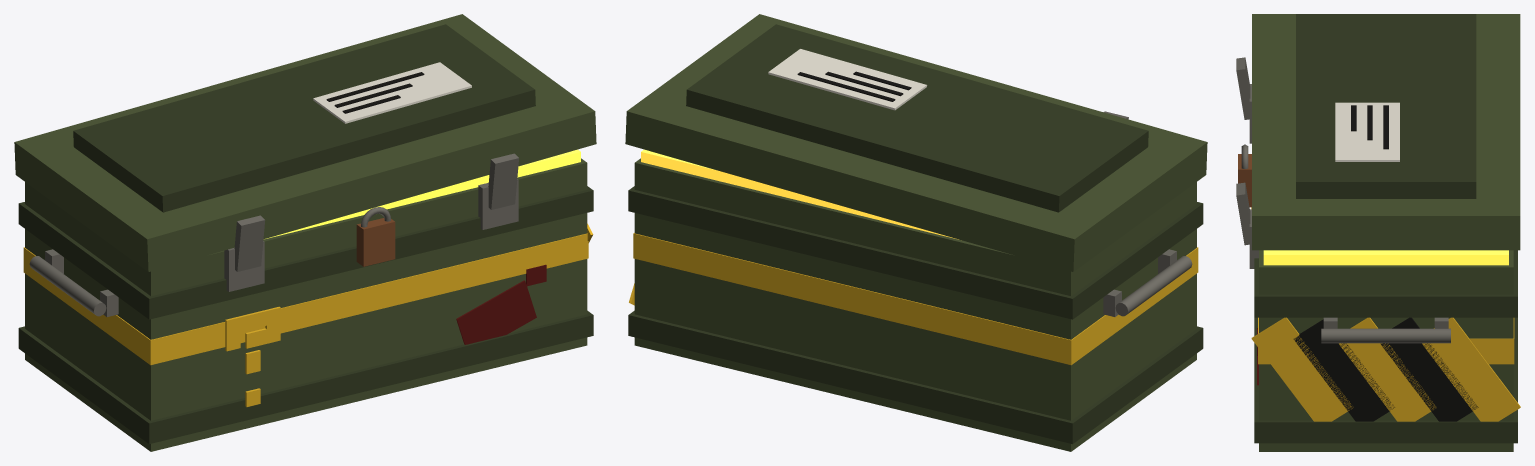
The model's file is caja-municion.glb.
3 renders of one model, left to right at view 1: azimuth 30°, elevation 25°; view 2: azimuth 150°, elevation 25°; view 3: azimuth 270°, elevation 25°, orthographic.
Parts seen in each view (by area): view 1: cuerpo, tapa_base, tapa_relieve, refuerzo_0, banda_amarilla, refuerzo_1, etiqueta, mancha_sangre, junta_brillo, candado_cuerpo, pestillo_palanca_1, pestillo_palanca_0 (+4 smaller); view 2: cuerpo, tapa_base, tapa_relieve, refuerzo_0, refuerzo_1, banda_amarilla, etiqueta, junta_brillo, asa_der; view 3: tapa_base, tapa_relieve, cuerpo, refuerzo_0, refuerzo_1, franja_peligro_4, franja_peligro_0, franja_peligro_3, junta_brillo, franja_peligro_1, franja_peligro_2, etiqueta (+5 smaller).
Boxes of the visible parts, <box> form: cuerpo: <box>25,158,587,451</box>; tapa_base: <box>14,14,596,271</box>; tapa_relieve: <box>73,24,535,212</box>; refuerzo_0: <box>18,310,593,444</box>; banda_amarilla: <box>23,233,588,365</box>; refuerzo_1: <box>18,186,593,319</box>; etiqueta: <box>313,62,471,123</box>; mancha_sangre: <box>456,280,536,344</box>; junta_brillo: <box>264,149,580,239</box>; candado_cuerpo: <box>356,218,395,266</box>; pestillo_palanca_1: <box>488,153,518,209</box>; pestillo_palanca_0: <box>234,215,265,271</box>; cuerpo: <box>634,158,1196,451</box>; tapa_base: <box>625,14,1207,271</box>; tapa_relieve: <box>686,24,1148,212</box>; refuerzo_0: <box>628,310,1203,444</box>; refuerzo_1: <box>628,186,1203,319</box>; banda_amarilla: <box>633,233,1198,365</box>; etiqueta: <box>768,49,927,110</box>; junta_brillo: <box>641,149,958,239</box>; asa_der: <box>1115,256,1192,316</box>; tapa_base: <box>1252,14,1520,250</box>; tapa_relieve: <box>1296,14,1476,198</box>; cuerpo: <box>1259,250,1513,451</box>; refuerzo_0: <box>1254,317,1517,443</box>; refuerzo_1: <box>1254,250,1517,317</box>; franja_peligro_4: <box>1251,317,1353,421</box>; franja_peligro_0: <box>1422,317,1520,421</box>; franja_peligro_3: <box>1293,319,1394,421</box>; junta_brillo: <box>1263,250,1508,265</box>; franja_peligro_1: <box>1380,317,1478,421</box>; franja_peligro_2: <box>1339,317,1436,421</box>; etiqueta: <box>1335,102,1399,161</box>.
Bounding box in the file's own units: 1.23 × 0.6049 × 0.6144.
